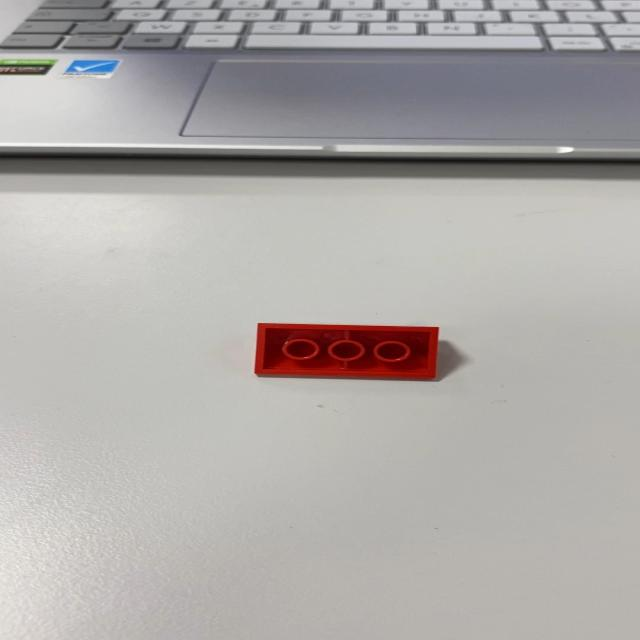P4x2x1: (254, 322, 440, 380)
